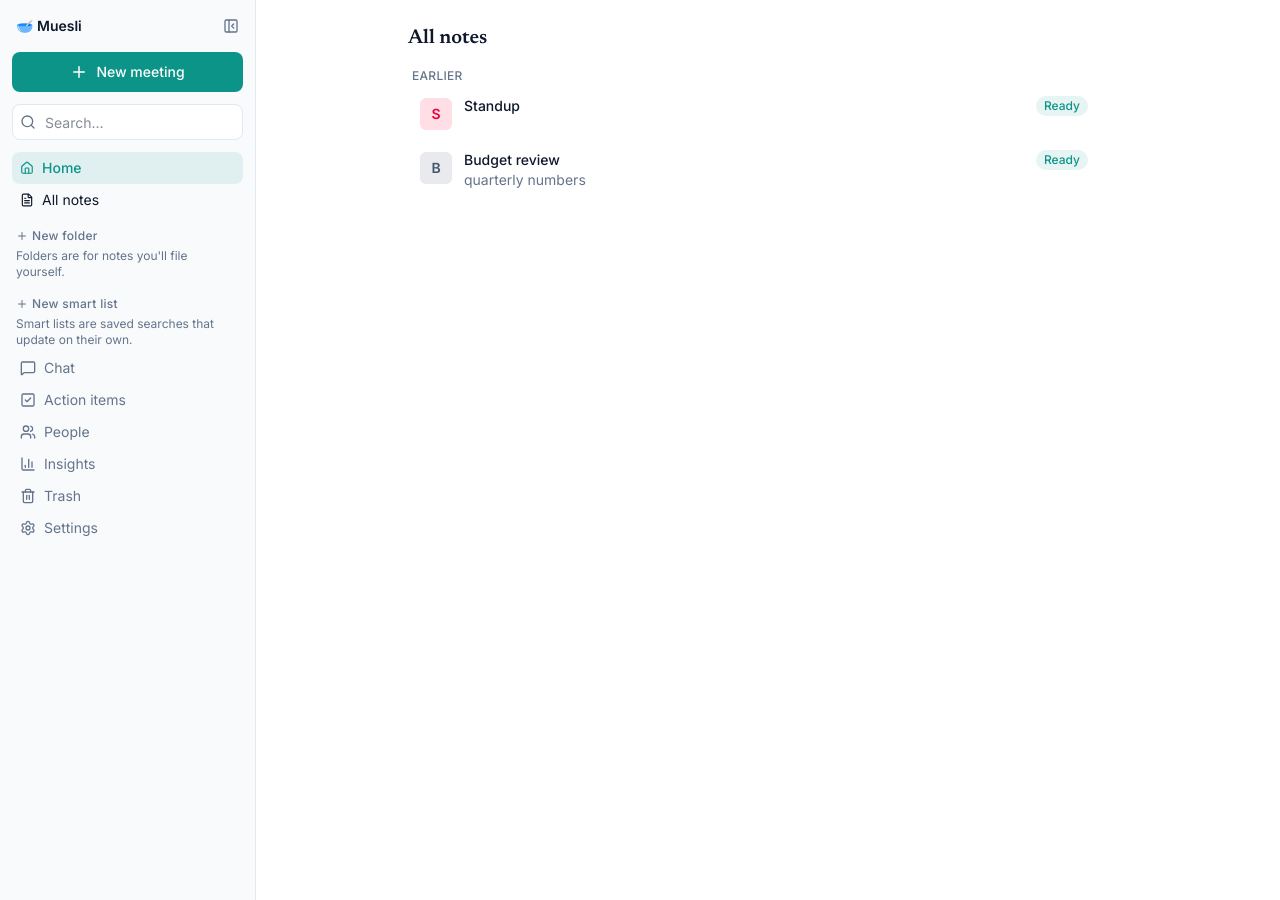
it: AppLayout — stale semantic-search results race (MUST-FIX, prior finding from closed PR #221) › never applies query A's (stale, slow) matches once the query has moved on to a different query B
The image size is (1280, 900).
Check: the text "Standup" is shown, box [464, 97, 520, 114]
Type "alpha" into the field named "search notes" at point(128, 122), box [12, 104, 243, 140]
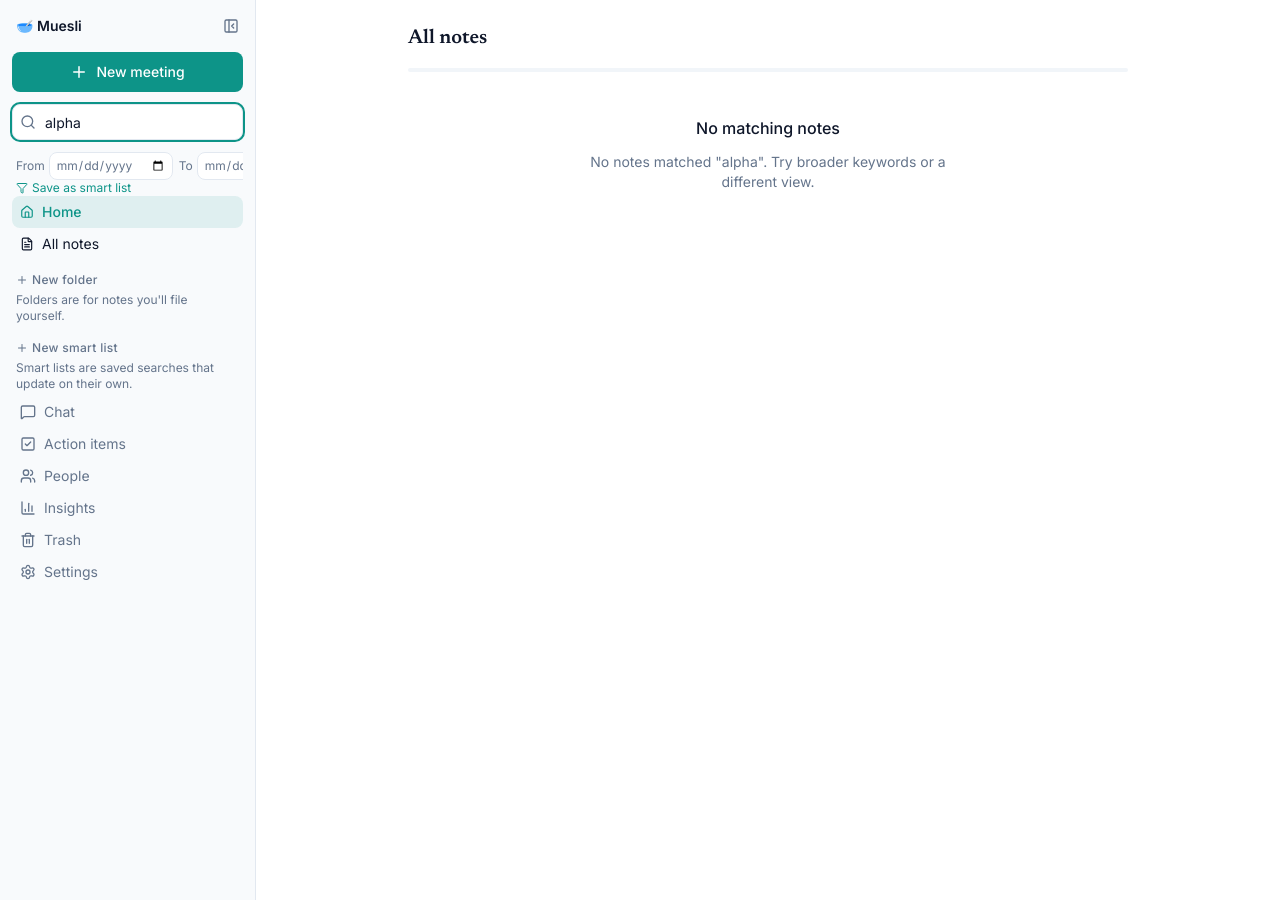
Check: the button "Standup" is gone
Check: the button "Budget review" is gone
Replace the text in the field named "search notes" with "beta" at point(128, 122), box [12, 104, 243, 140]
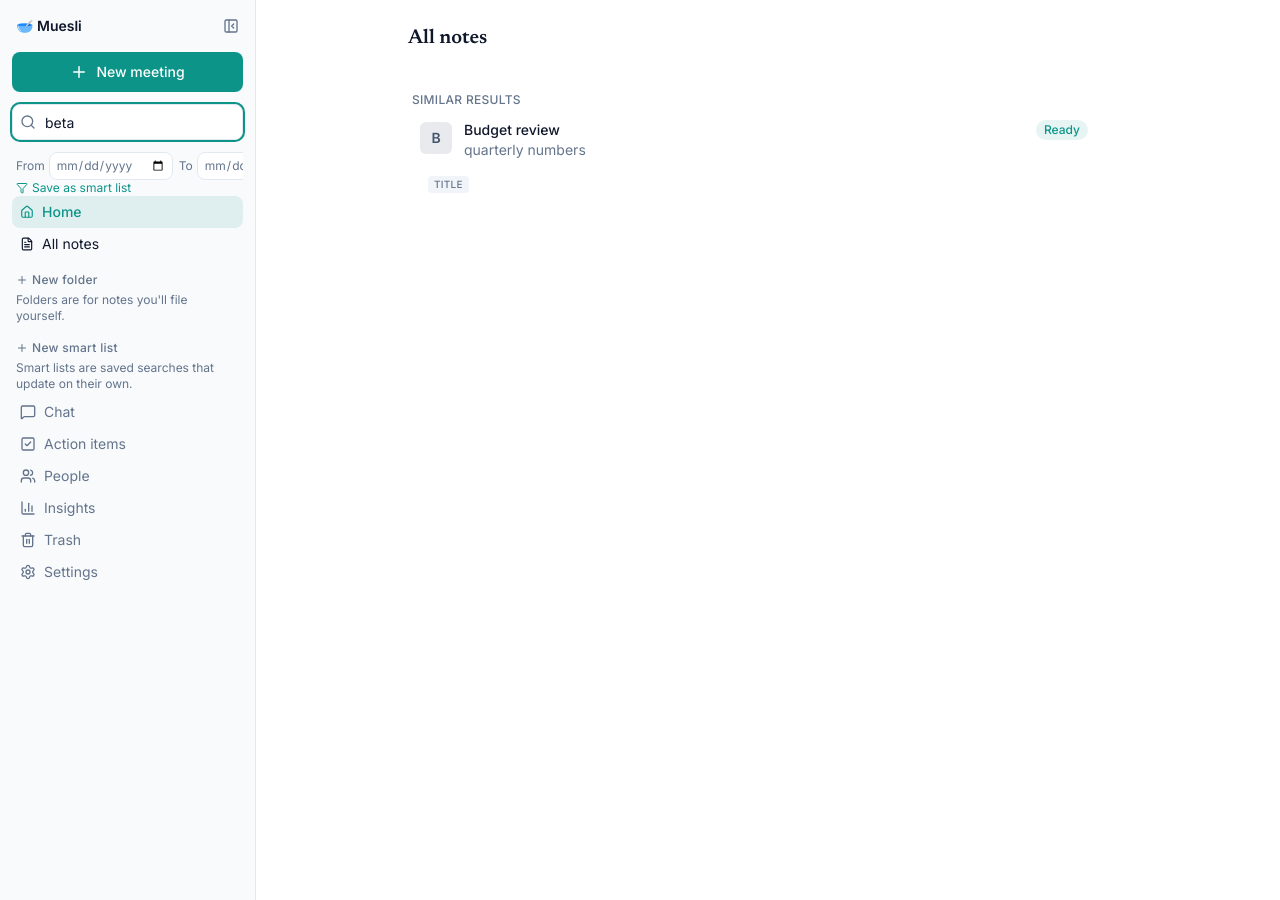
Check: the text "Budget review" is shown, box [464, 121, 560, 138]
Check: the button "Standup" is gone
